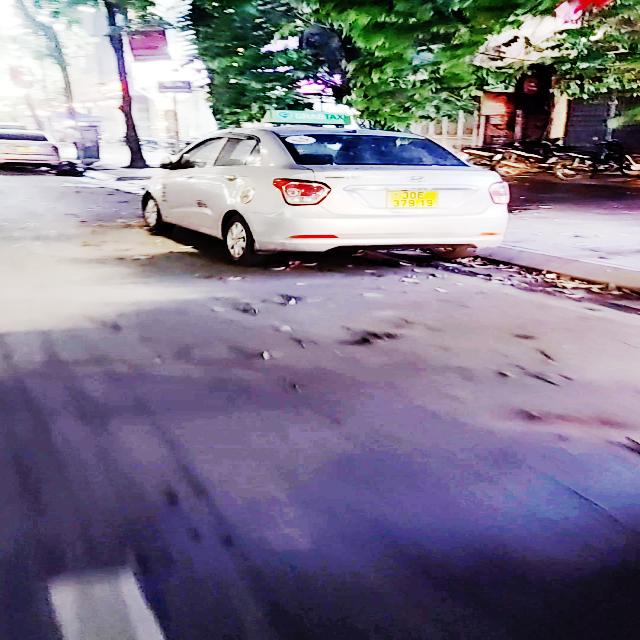license_plate: (386, 190, 444, 211)
